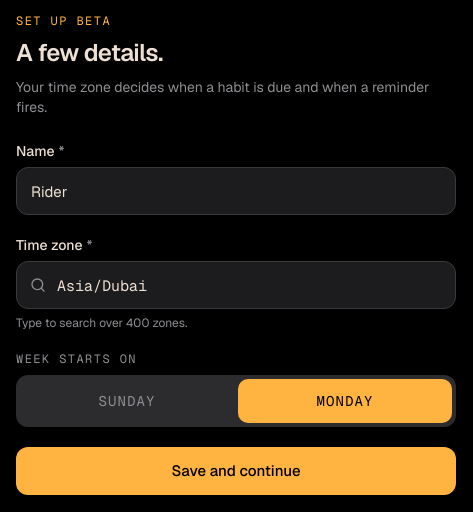
onboarding screen › keeps a keyboard user on the list
Expected: the heading "A few details." is shown, [16,37,163,68]
Replace the text in the dropdown labelled "Time zone*" with "Lord_Howe": (236, 285) [16,261,456,309]
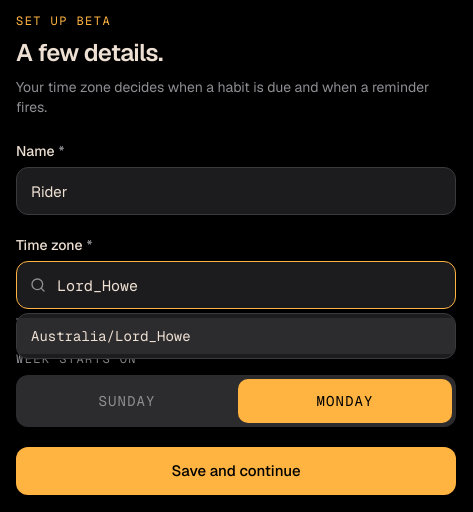
Press Arrowdown Enter
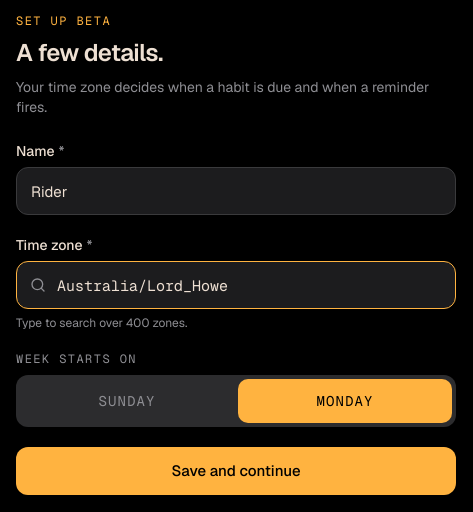
Expected: the dropdown labelled "Time zone*" holds "Australia/Lord_Howe", [16,261,456,309]
Expected: the list is gone
